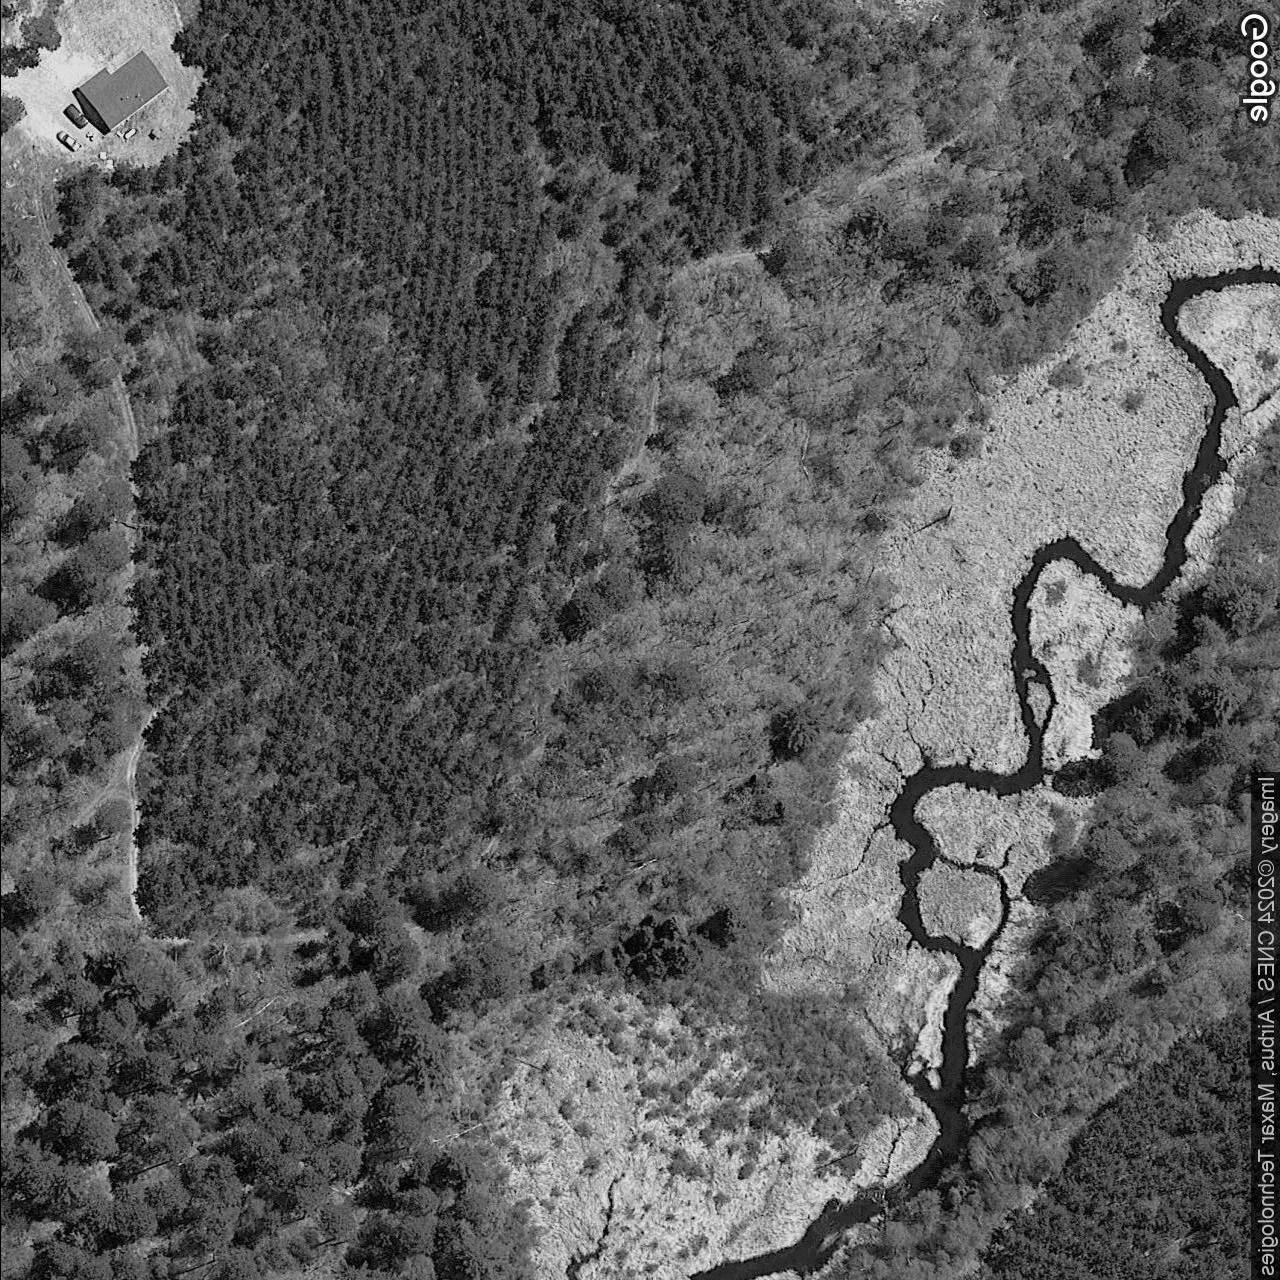House: (76, 48, 170, 134)
Propane: (121, 125, 137, 142)
